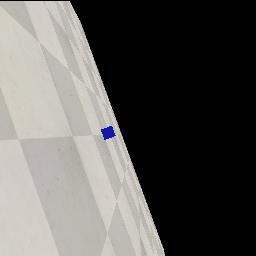box: (101, 126, 116, 140)
